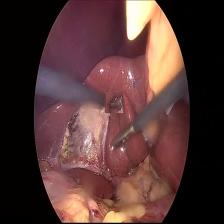Grasper: (107, 123, 134, 157), (105, 92, 123, 113)
